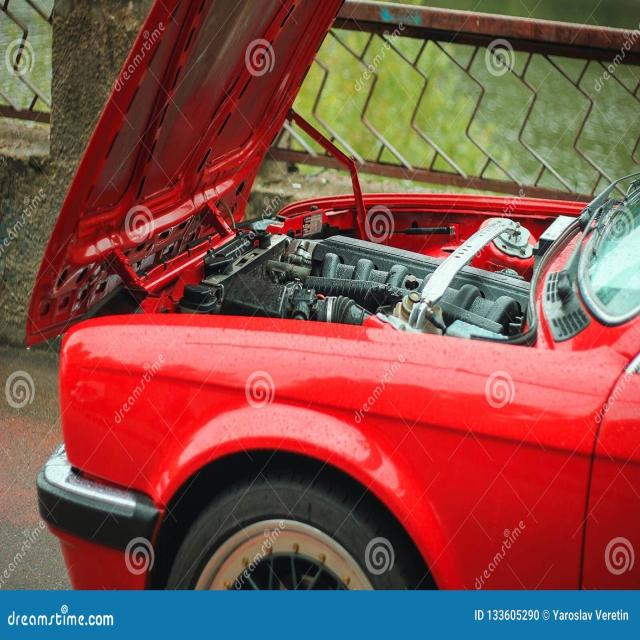misalignment: (72, 465, 152, 500)
